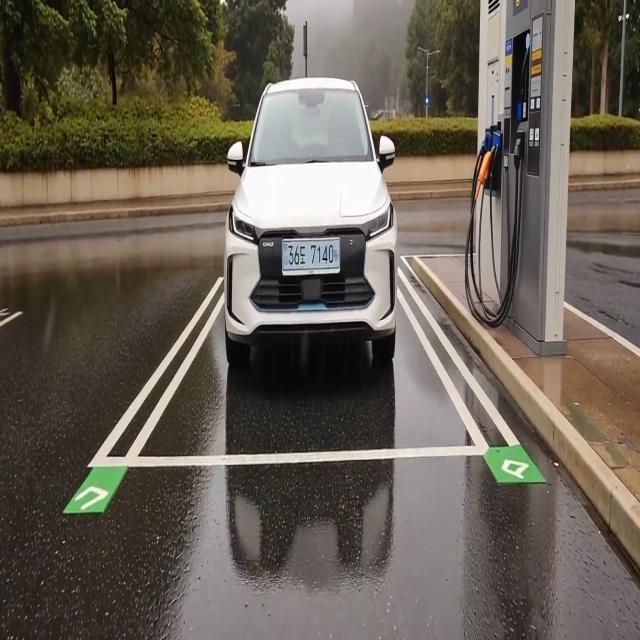car: (282, 241, 341, 272)
carev: (282, 242, 289, 274), (333, 244, 340, 269)
